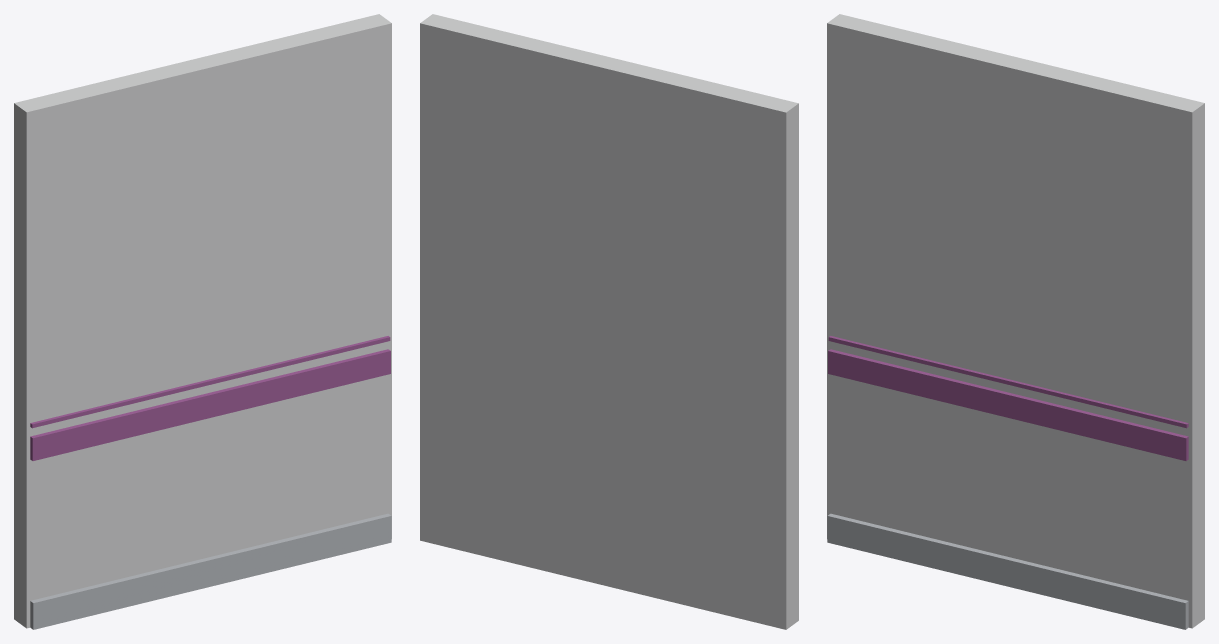
File: pharmacy-and-high-street-chemist-shop-wall-module-964b2f8f__37492.glb
3 renders of one model, left to right at view 1: azimuth 30°, elevation 25°; view 2: azimuth 150°, elevation 25°; view 3: azimuth 330°, elevation 25°, orthographic.
Visible parts, largest first — view 1: shop-wall-module; view 2: shop-wall-module; view 3: shop-wall-module.
Part boxes in pixels (bbox=[...]): shop-wall-module: bbox=[14, 14, 391, 629]; shop-wall-module: bbox=[420, 14, 798, 629]; shop-wall-module: bbox=[827, 14, 1204, 629].
Bounding box in the file's own units: 2 × 2.7 × 0.1499.
